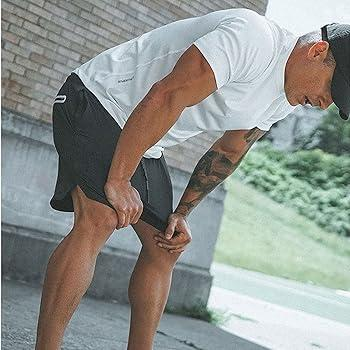Shorts: (47, 72, 180, 236)
short sleeve shirt: (71, 7, 301, 159)
